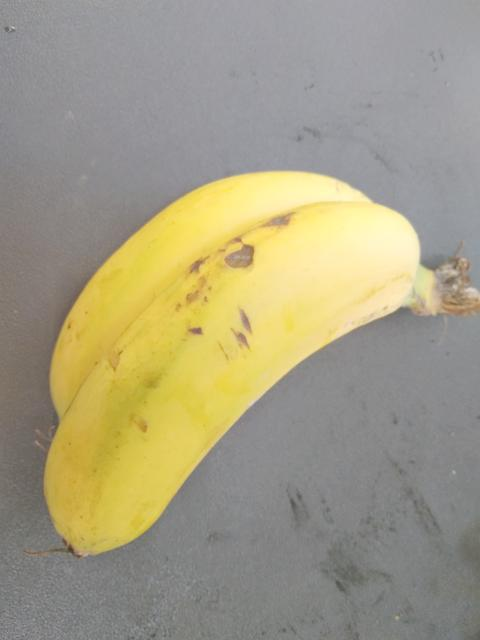ripe: (40, 209, 432, 567)
